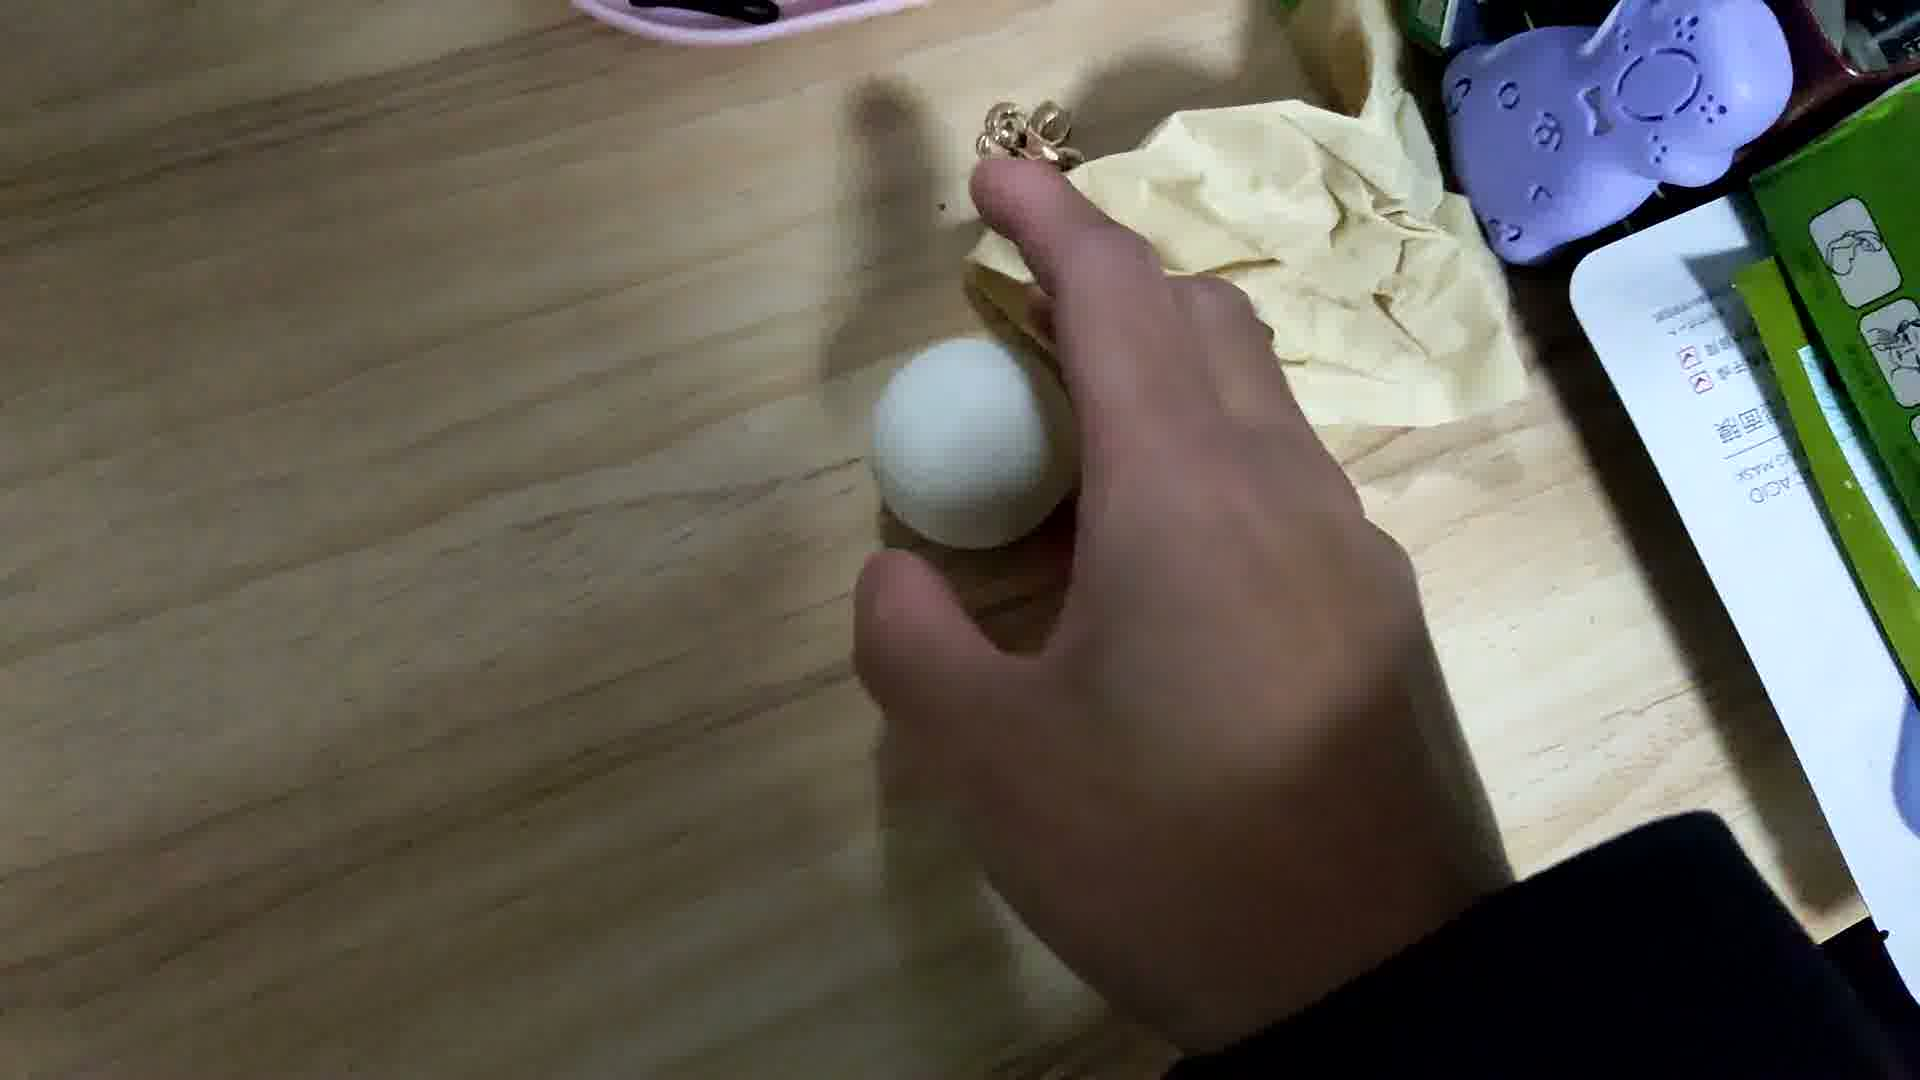Ball: (872, 335, 1069, 558)
